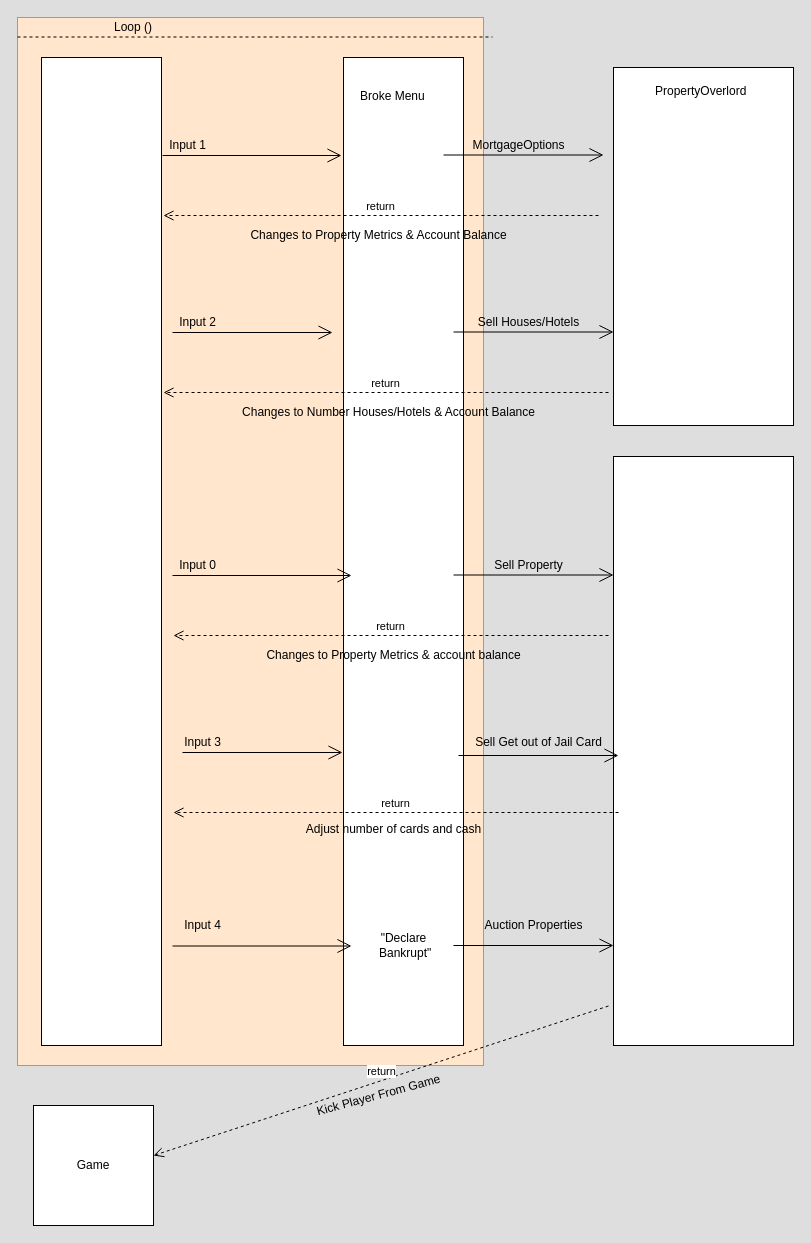
This 811x1243 diagram has some shape labels left out. The shapes that lost their labels are listed below. From the top down, each one's box as (x1, y1, x2, y2) in pixels, then its label:
(40, 56, 162, 1046): Player
(612, 456, 794, 1046): Trade
